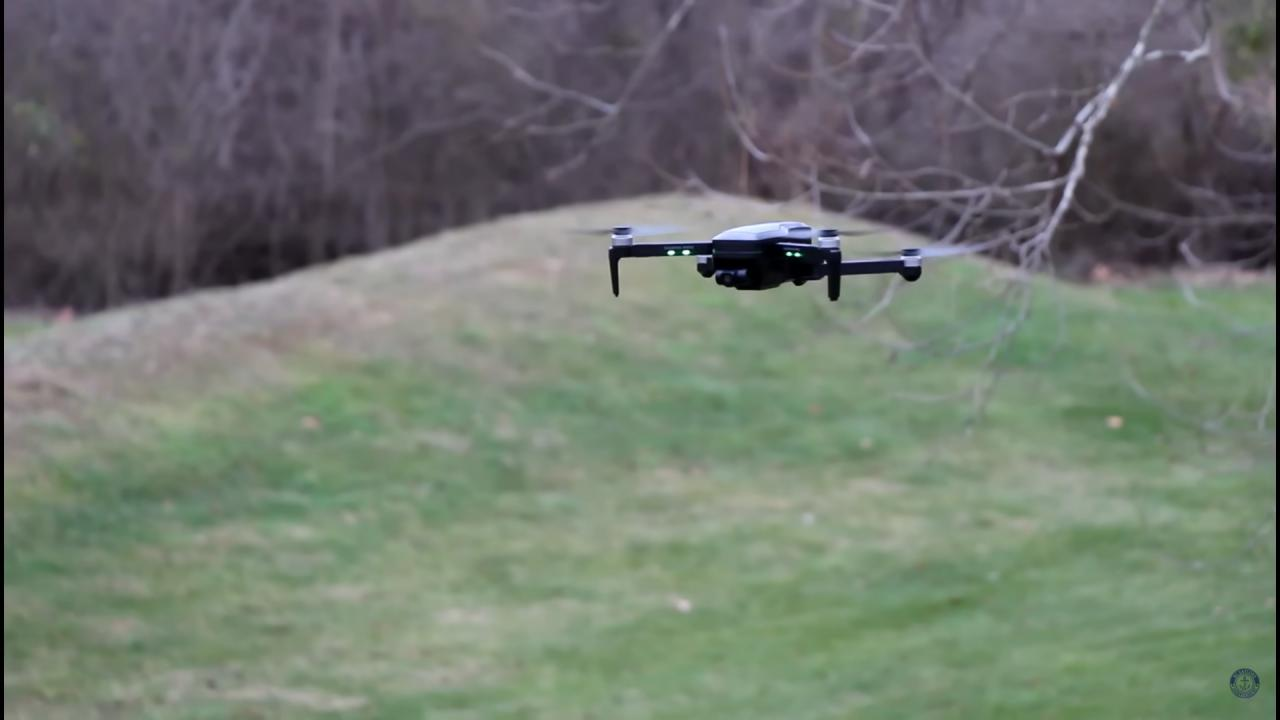Drone: (536, 208, 992, 315)
